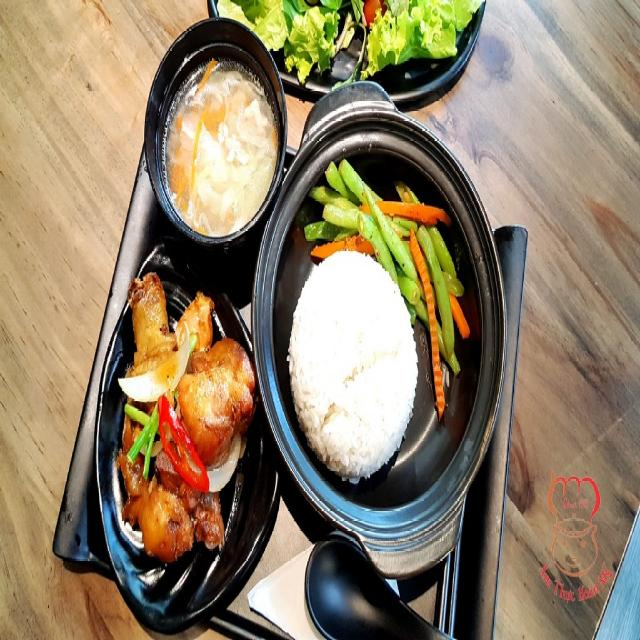canh cai: (168, 60, 278, 237)
com: (287, 250, 418, 479)
kho tieu: (118, 273, 254, 561)
ot: (159, 399, 209, 491)
rau: (306, 160, 469, 416), (219, 0, 480, 84)
